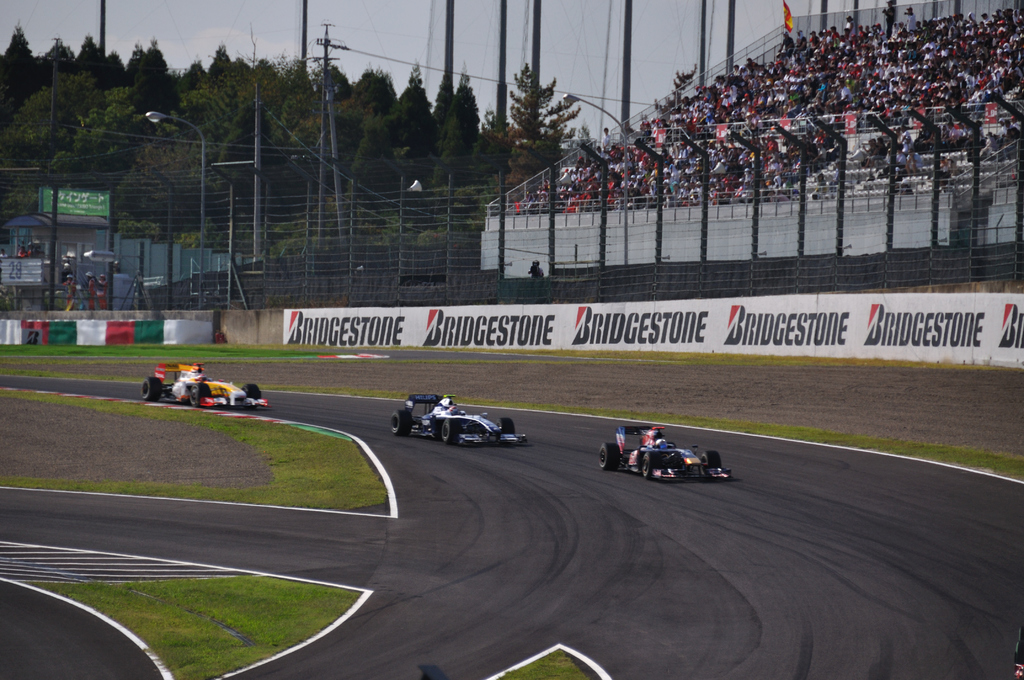Car: (387, 391, 531, 449), (597, 425, 734, 482), (142, 360, 270, 409)
